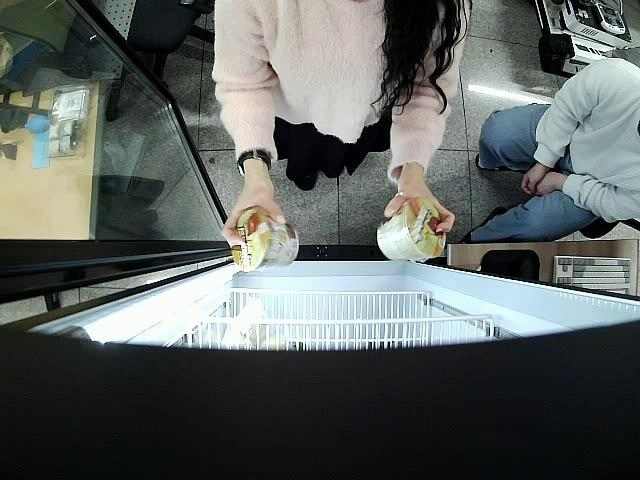04_chapagetti_S: (378, 202, 447, 264), (234, 212, 298, 274)
